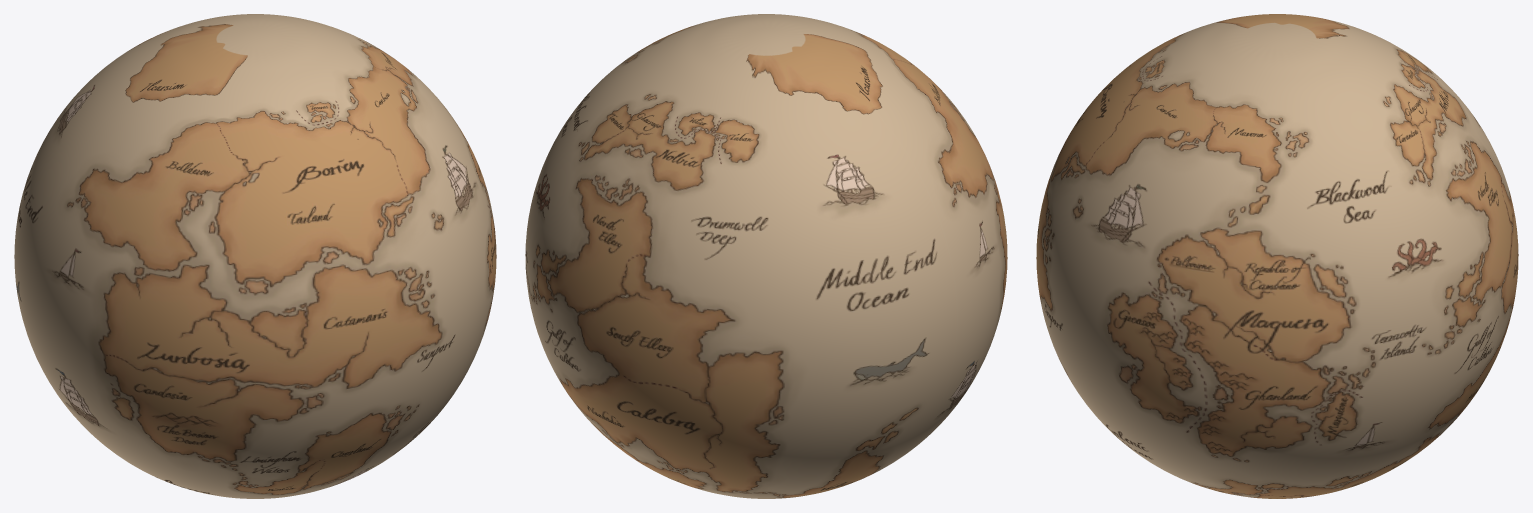
The model's file is SM_Globe_Sphere.fbx.
3 renders of one model, left to right at view 1: azimuth 30°, elevation 25°; view 2: azimuth 150°, elevation 25°; view 3: azimuth 270°, elevation 25°, orthographic.
Parts seen in each view (by area): view 1: Sphere; view 2: Sphere; view 3: Sphere.
Boxes of the visible parts, box(x1,y1,x2,y2) form: Sphere: box(14, 14, 496, 498); Sphere: box(525, 14, 1007, 498); Sphere: box(1036, 14, 1518, 498).
Size of the model in its own units: 184 by 186 by 184.
Materials: 1 (1 with a texture image).
